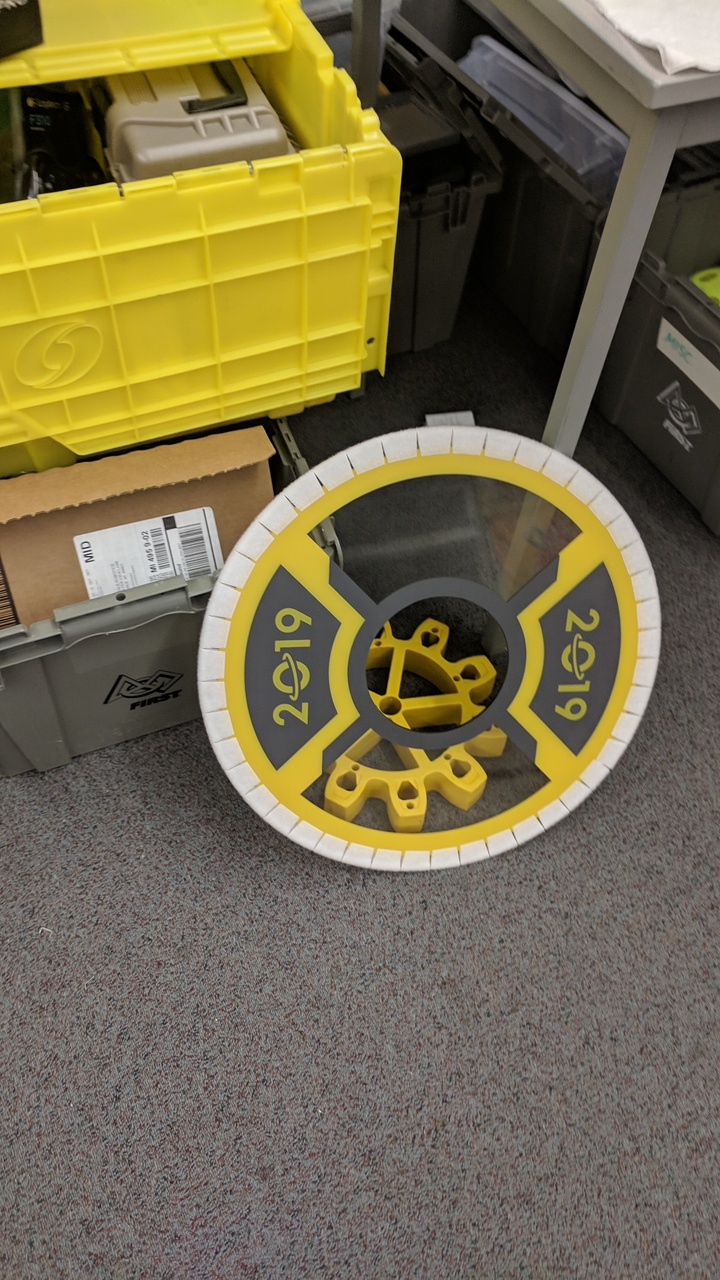hatch_panel: (190, 422, 665, 876)
